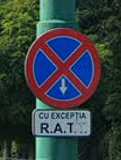oprirea_interzisa: (22, 26, 105, 109)
